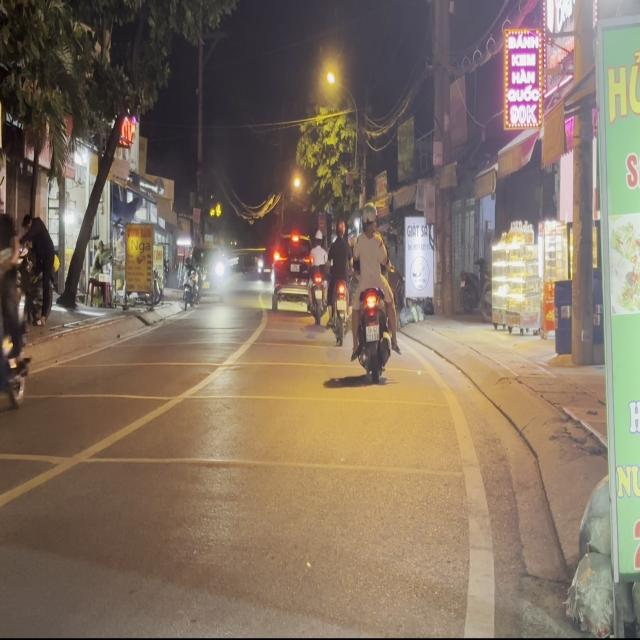helmet: (362, 202, 378, 231)
licenseplate: (349, 202, 400, 381), (0, 169, 32, 428)
nohelmet: (366, 325, 379, 342)
